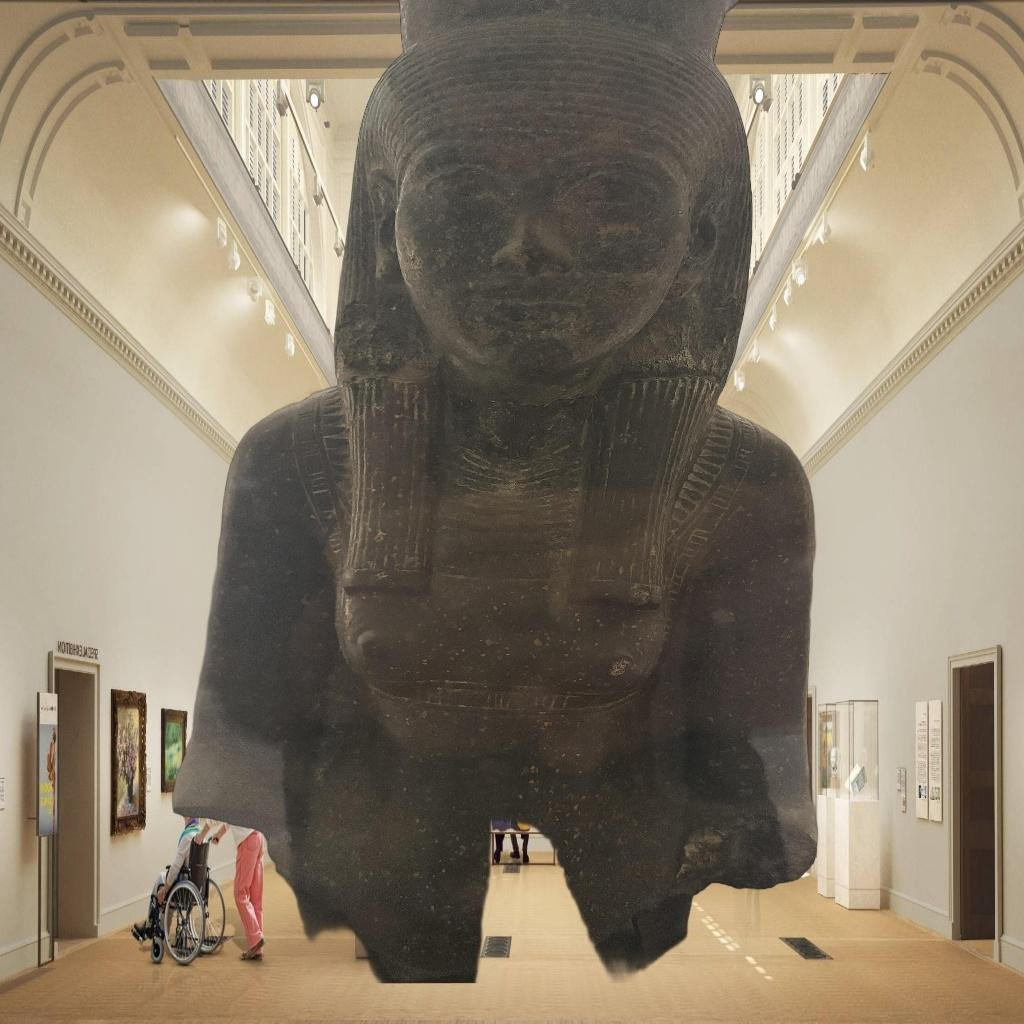Bust of Isis: (164, 0, 824, 984)
